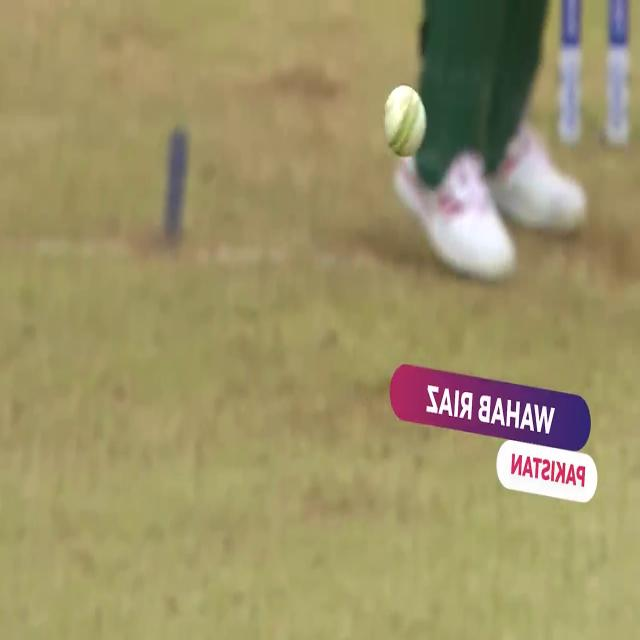ball: (380, 84, 428, 162)
